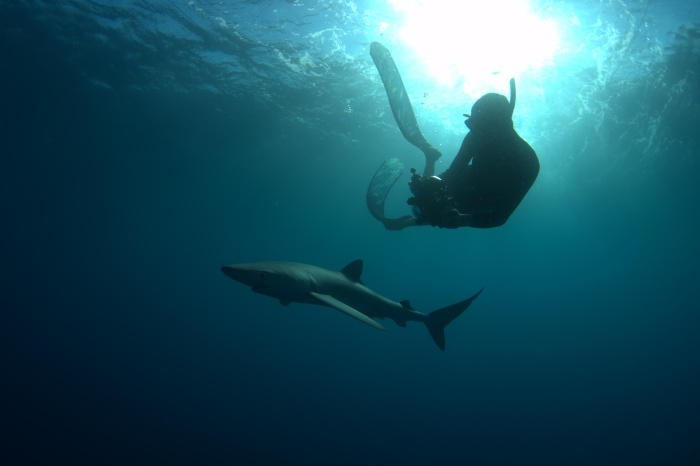Azul: (207, 236, 486, 362)
